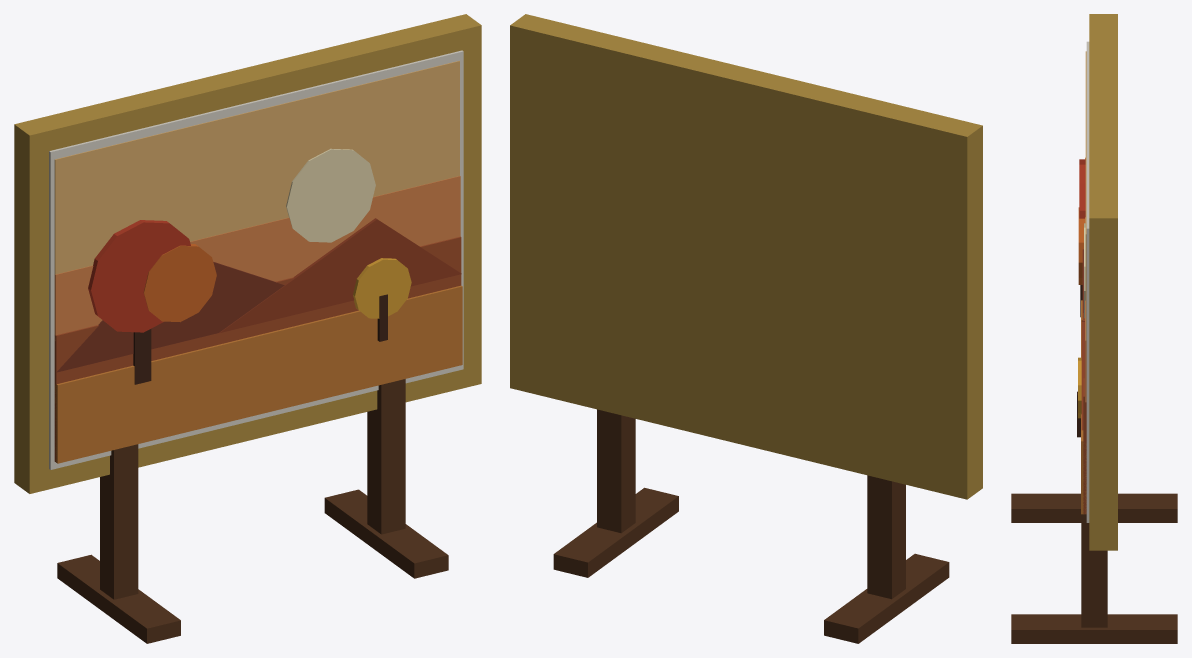
Rendered from c-frame-autumn.glb.
3 views of the same model, side by side, from view 1: azimuth 30°, elevation 25°; view 2: azimuth 150°, elevation 25°; view 3: azimuth 270°, elevation 25° (orthographic). The views are drawn at different scales.
Parts seen in each view (by area): view 1: c-frame-autumn; view 2: c-frame-autumn; view 3: c-frame-autumn.
Part boxes in pixels (x1,y1,x2,y2): c-frame-autumn: (14, 14, 481, 643); c-frame-autumn: (510, 14, 982, 643); c-frame-autumn: (1011, 14, 1177, 643).
Bounding box in the file's own units: 0.93 × 0.975 × 0.32.
